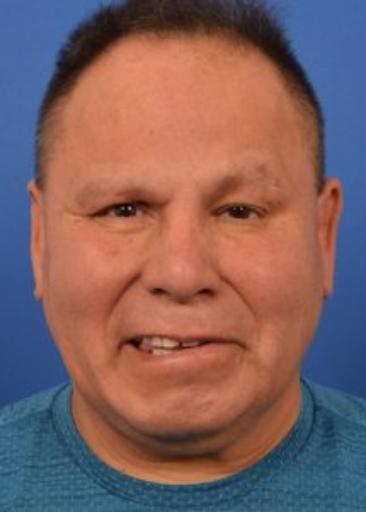left_eye: (211, 200, 273, 225)
left_lip_corner: (239, 337, 253, 357)
right_eye: (93, 200, 155, 222)
right_lip_corner: (120, 333, 132, 352)
